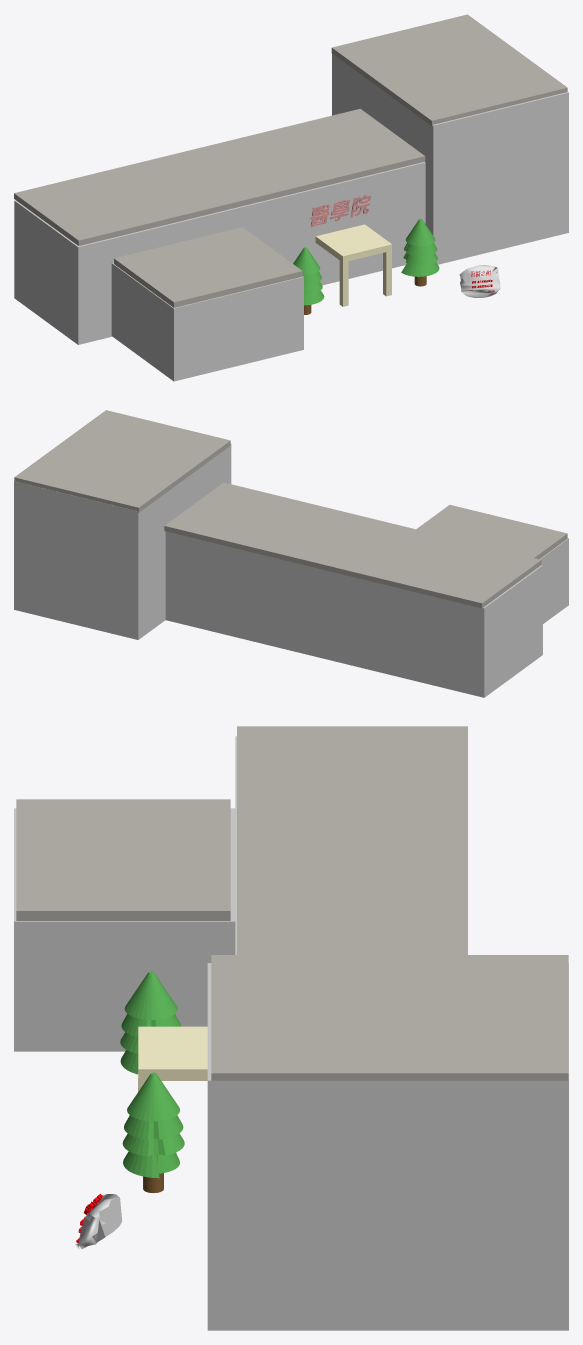
The model's file is 醫學系.fbx.
3 views of the same model, one above another, from view 1: azimuth 30°, elevation 25°; view 2: azimuth 150°, elevation 25°; view 3: azimuth 270°, elevation 25° (orthographic). The views are drawn at different scales.
Visible parts, largest first — view 1: 立方體.007, 立方體.001, 立方體.002, 立方體.008, 立方體, 立方體.006, 立方體.005, 圓柱體.008, Mball.001, 圓柱體.003, 文字; view 2: 立方體.001, 立方體.002, 立方體.007, 立方體.008, 立方體.006, 立方體; view 3: 立方體.002, 立方體.007, 立方體.008, 立方體.006, 立方體, 圓柱體.008, 立方體.005, 圓柱體.003, Mball.001.
Boxes of the visible parts, x1,y1,x2,y2 form: 立方體.007: [14, 108, 425, 245]; 立方體.001: [14, 162, 425, 344]; 立方體.002: [332, 53, 568, 264]; 立方體.008: [331, 14, 567, 125]; 立方體: [111, 262, 303, 381]; 立方體.006: [114, 227, 302, 307]; 立方體.005: [315, 224, 391, 306]; 圓柱體.008: [401, 219, 439, 286]; Mball.001: [459, 265, 500, 297]; 圓柱體.003: [293, 247, 324, 314]; 文字: [310, 195, 370, 227]; 立方體.001: [165, 531, 542, 697]; 立方體.002: [14, 443, 231, 639]; 立方體.007: [164, 482, 541, 608]; 立方體.008: [14, 410, 230, 512]; 立方體.006: [416, 505, 567, 559]; 立方體: [539, 538, 568, 623]; 立方體.002: [207, 963, 568, 1330]; 立方體.007: [237, 726, 467, 954]; 立方體.008: [211, 955, 568, 1080]; 立方體.006: [16, 799, 230, 920]; 立方體: [14, 808, 235, 1051]; 圓柱體.008: [122, 1072, 184, 1193]; 立方體.005: [138, 1026, 207, 1091]; 圓柱體.003: [120, 971, 180, 1074]; Mball.001: [75, 1194, 122, 1249].
Bounding box in the file's own units: 18845 × 5764 × 10518.
